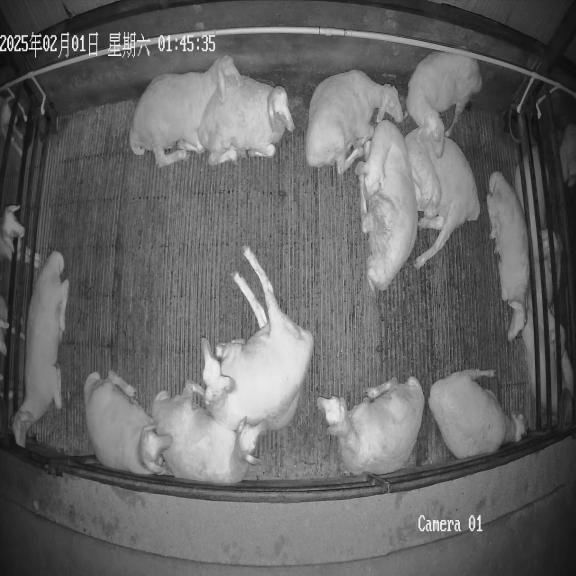lying: (202, 247, 314, 454), (129, 56, 241, 167), (152, 382, 265, 484), (11, 251, 69, 446), (356, 118, 417, 291), (405, 128, 480, 268), (317, 377, 424, 475), (305, 70, 403, 174), (84, 371, 171, 475), (429, 370, 525, 459), (198, 76, 294, 165), (487, 172, 530, 342)
stand: (406, 51, 482, 157)
